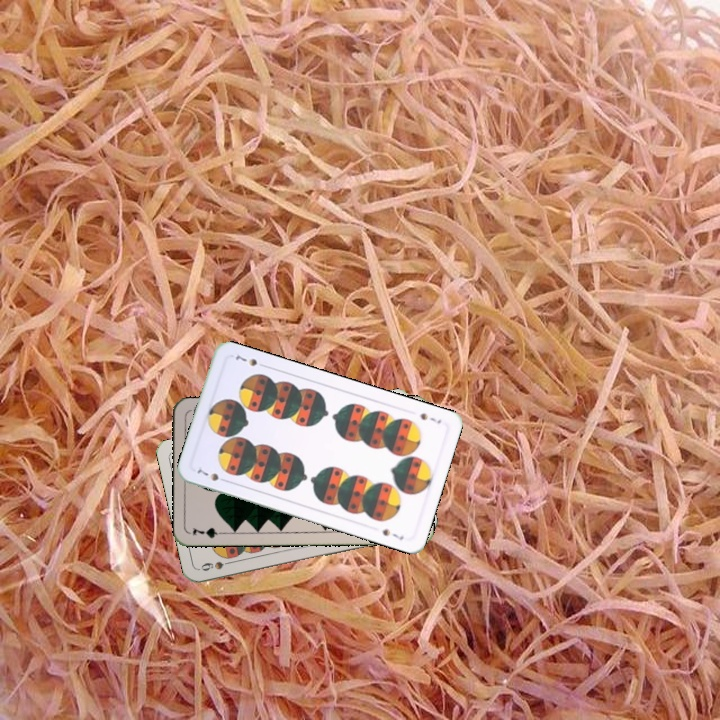G7: (189, 524, 229, 541)
S7: (193, 465, 231, 485), (415, 409, 444, 426)
S9: (197, 556, 237, 574)
